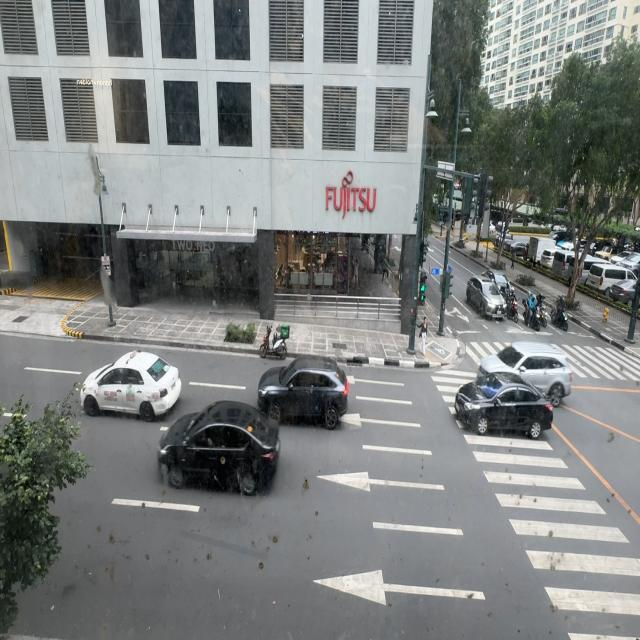pedestrain: (511, 249, 515, 269)
waiting: (419, 316, 429, 356)
